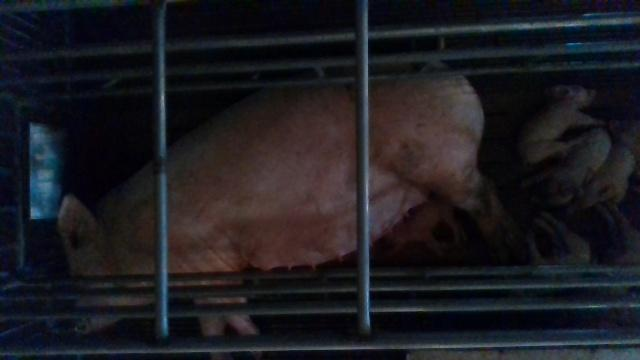piglet: (516, 81, 607, 165), (521, 129, 612, 208), (515, 212, 591, 296), (387, 198, 467, 262), (594, 201, 640, 298), (574, 145, 635, 214)
sow-sleep-lactate: (57, 61, 489, 360)
